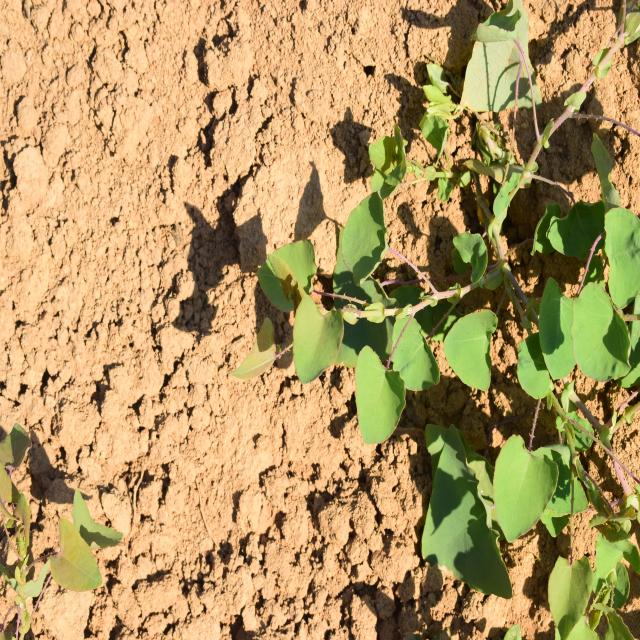Asiatic_Smartweed: (244, 202, 504, 414), (404, 399, 617, 624), (515, 188, 640, 406)
